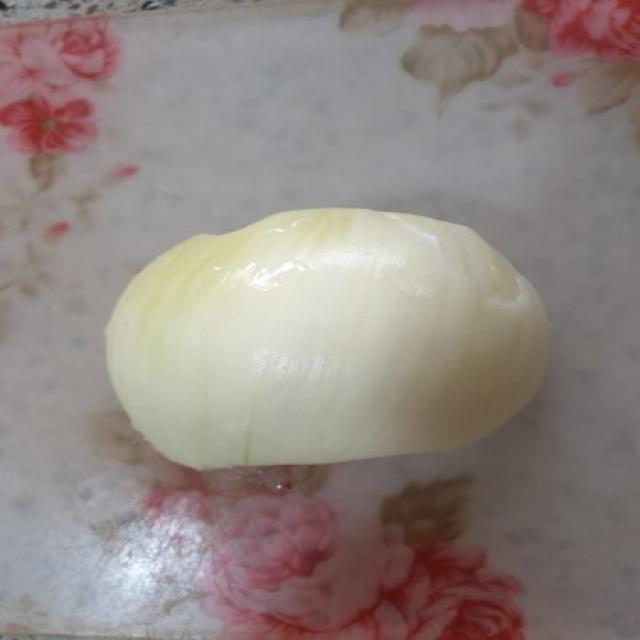onion: (84, 195, 602, 483)
